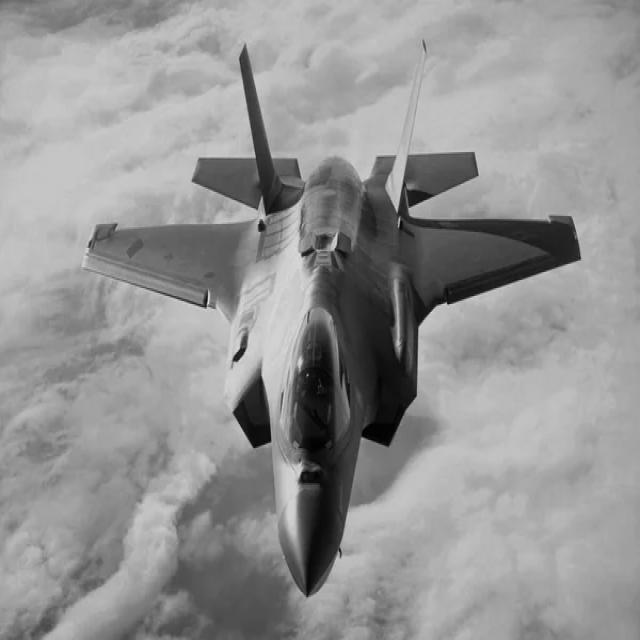Aircraft: (79, 47, 582, 599)
